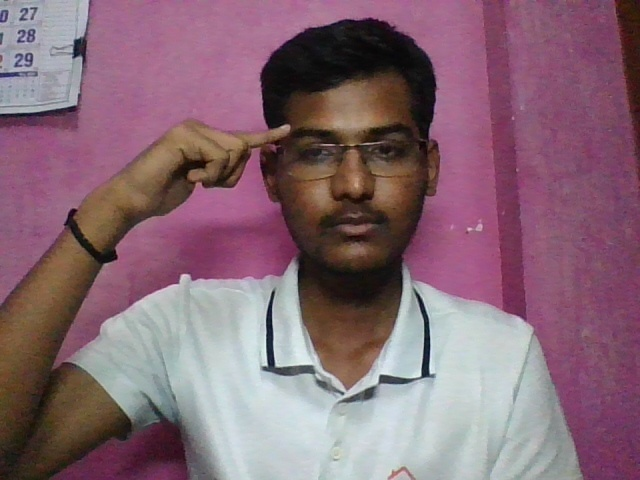Hello: (73, 100, 322, 254)
